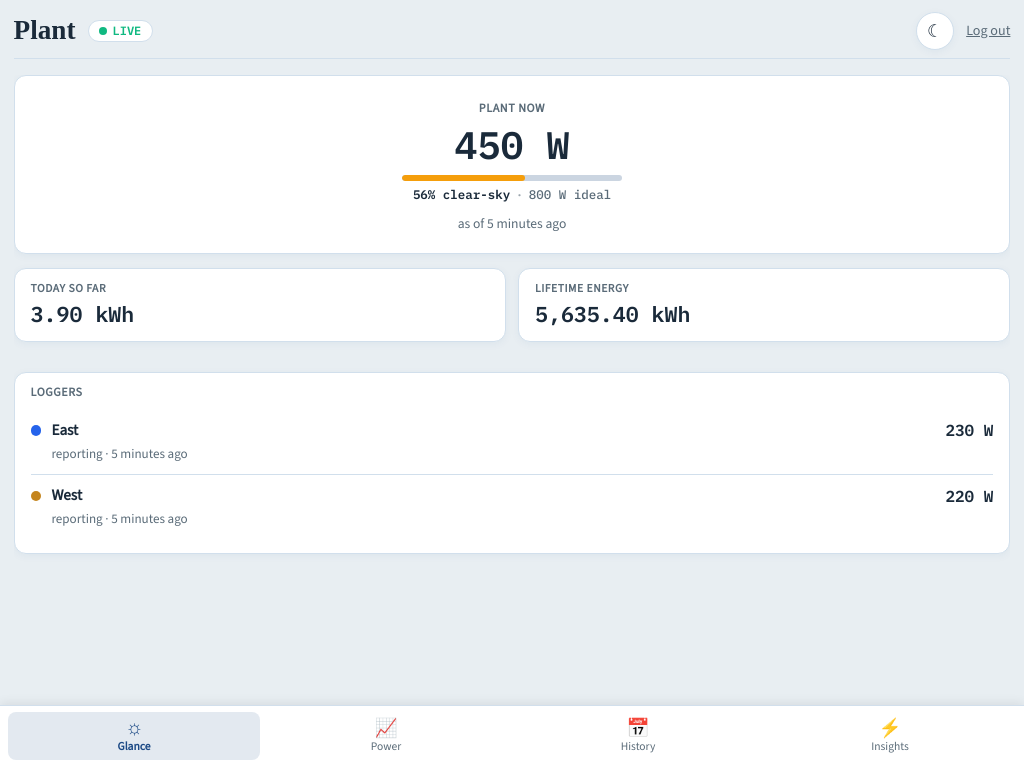
Test: MobilePlantView (Azulejo Moderno 4-Tab Dock) › switches to Insights tab and surfaces passive solar intelligence metrics
The width and height of the screenshot is (1024, 768).
Click the tab "⚡ Insights": (890, 736) x1=764 y1=712 x2=1016 y2=760
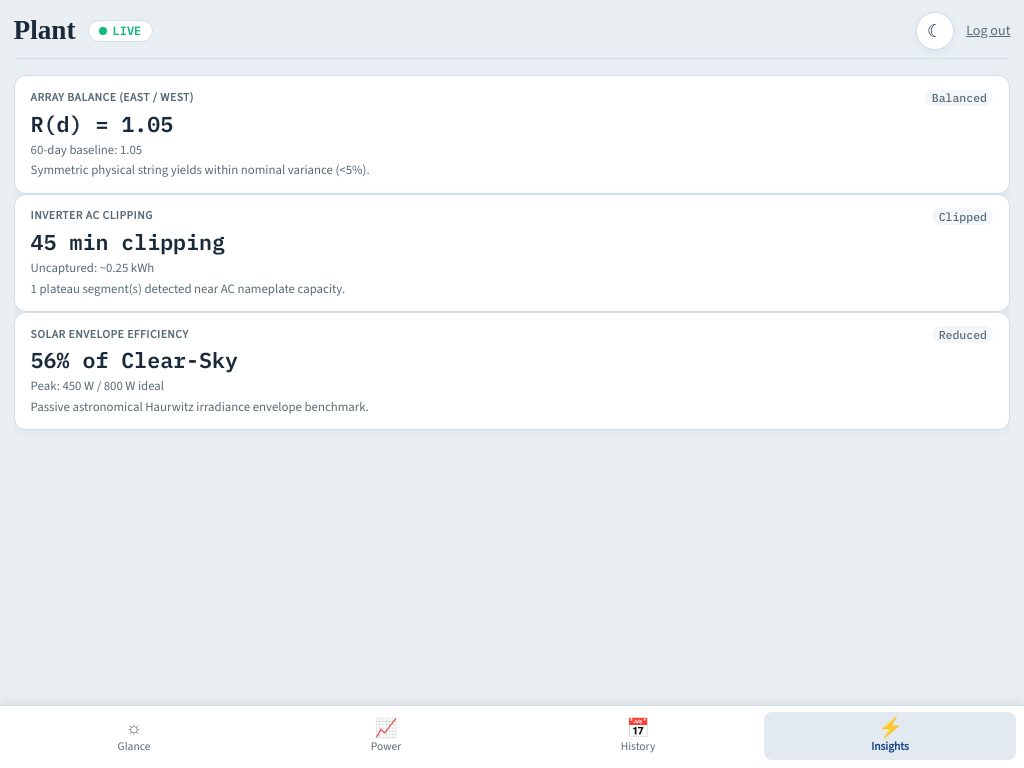
Check: the text "Array Balance (East / West)" is shown, box x1=31 y1=91 x2=194 y2=105
Check: the text "R(d) = 1.05" is shown, box x1=31 y1=110 x2=173 y2=138
Check: the text "Inverter AC Clipping" is shown, box x1=31 y1=210 x2=153 y2=223
